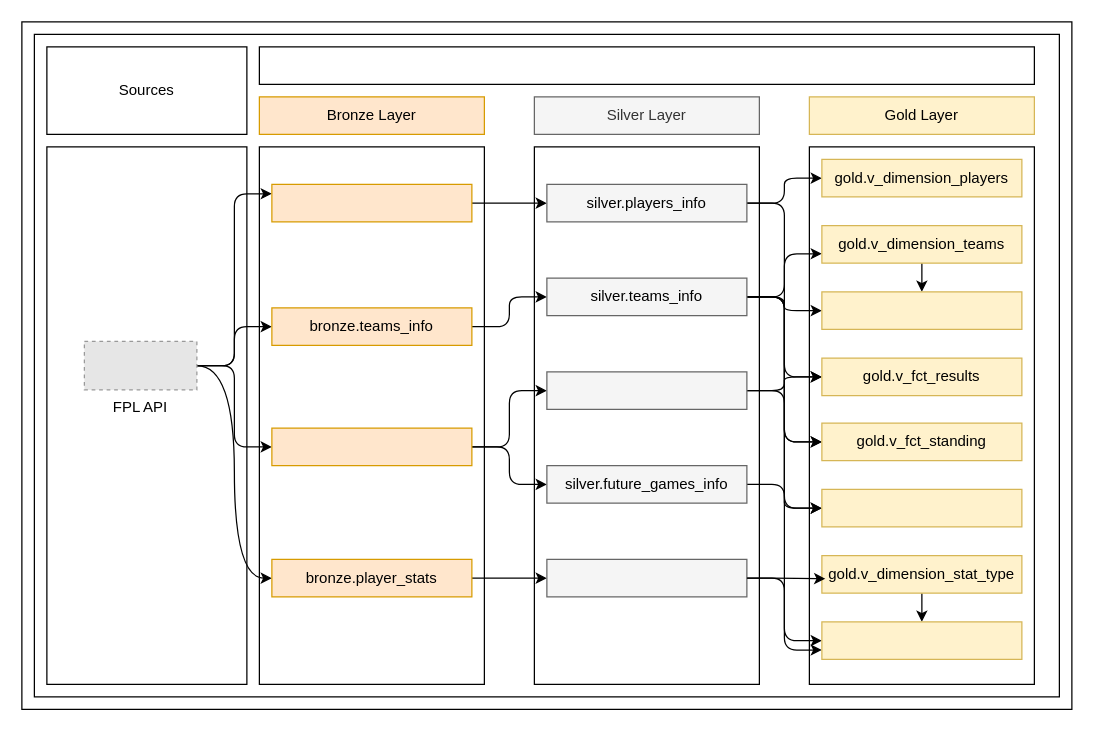
The diagram is 1094 pixels wide and 731 high, and some of its shapes have lost their labels. Grey dashed boxes stand in for pictures. The shapes that lost their labels are listed below. From the top down, each one's centre as x and y in pixels, then its label:
At point (646, 65): "Data Warehouse".
At point (371, 202): "bronze.players_info".
At point (921, 310): "gold.v_fct_player_history".
At point (646, 390): "silver.games_info".
At point (371, 446): "bronze.games_info".
At point (921, 507): "gold.v_fct_future_games".
At point (646, 577): "silver.player_stats".
At point (921, 640): "gold.v_fct_player_stats".
